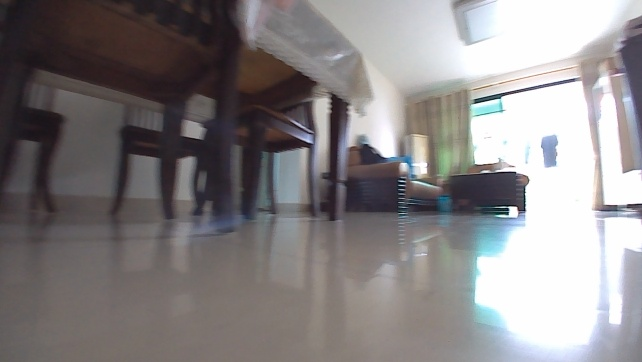dining_table: (0, 0, 376, 234)
sofa: (346, 143, 448, 216)
tea_table: (444, 166, 530, 214)
